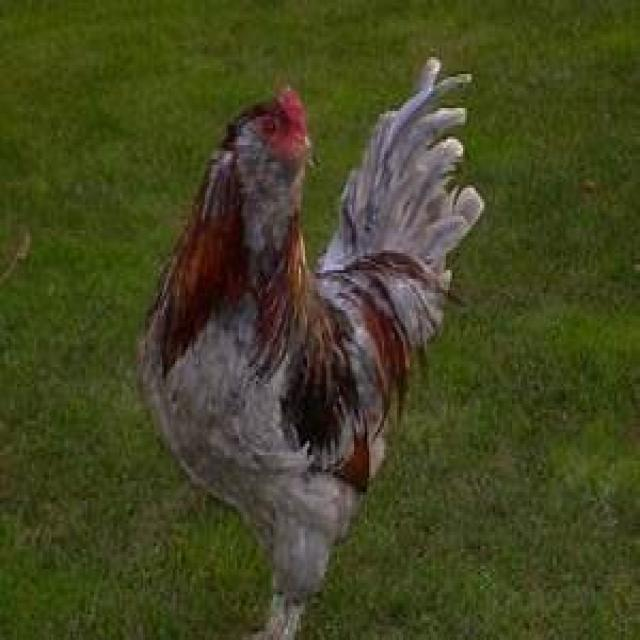hen: (138, 58, 484, 638)
